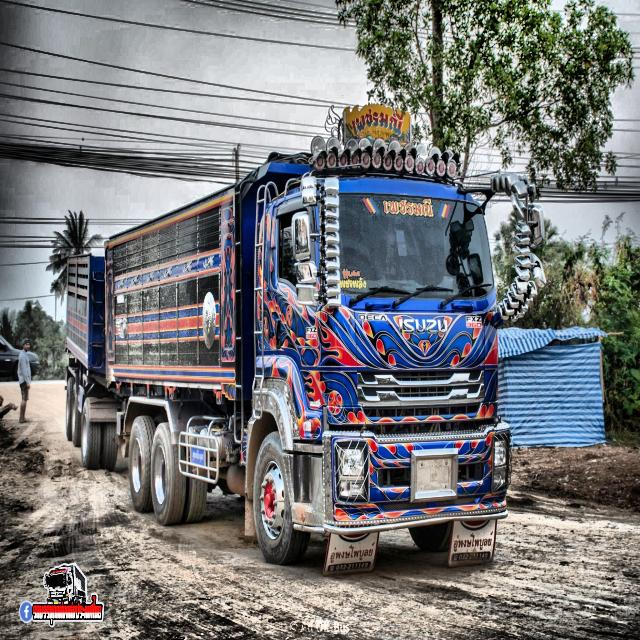trailer: (66, 97, 510, 577)
